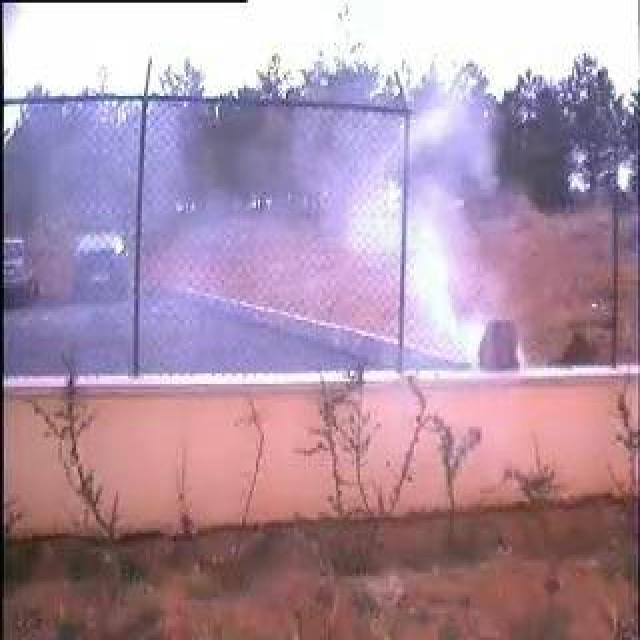Smoke: (335, 95, 531, 364)
